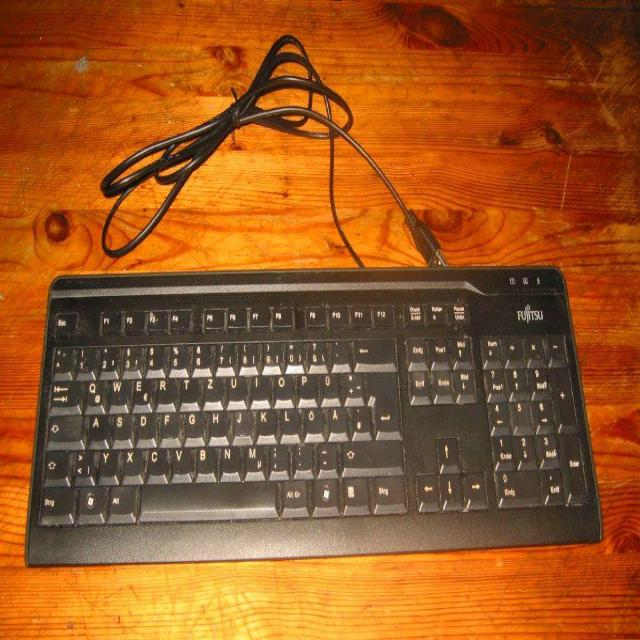0: (284, 338, 303, 369)
1: (75, 343, 96, 376)
2: (98, 343, 118, 374)
3: (121, 342, 142, 374)
4: (144, 341, 165, 371)
5: (169, 341, 190, 372)
6: (191, 340, 213, 372)
7: (215, 339, 236, 371)
8: (238, 339, 259, 370)
9: (261, 338, 281, 369)
a: (87, 413, 109, 443)
accent: (329, 337, 349, 368)
ae: (327, 404, 347, 434)
alt-left: (106, 482, 136, 519)
altgr-right: (279, 476, 306, 512)
b: (195, 445, 216, 478)
c: (146, 446, 168, 479)
caret: (50, 344, 73, 377)
comma: (268, 442, 288, 478)
d: (135, 411, 155, 442)
del: (353, 335, 395, 365)
e: (132, 375, 150, 407)
enter: (364, 366, 400, 434)
f: (159, 411, 180, 442)
g: (184, 408, 204, 440)
h: (208, 408, 228, 440)
hash: (350, 403, 370, 434)
i: (250, 372, 268, 402)
j: (232, 407, 253, 440)
k: (257, 407, 276, 438)
keyboard: (22, 259, 605, 568)
l: (279, 406, 300, 437)
less: (72, 445, 92, 481)
m: (244, 443, 263, 475)
minus: (316, 439, 336, 471)
n: (219, 444, 240, 477)
o: (272, 372, 292, 404)
oe: (303, 405, 323, 435)
p: (296, 371, 315, 402)
plus: (343, 369, 363, 400)
point: (292, 441, 311, 475)
q: (84, 377, 104, 408)
r: (155, 375, 175, 405)
s: (111, 410, 129, 440)
shift-left: (41, 446, 68, 482)
shift-lock: (44, 411, 83, 445)
shift-right: (341, 437, 402, 468)
space: (138, 478, 277, 518)
ss: (307, 337, 326, 367)
strg-left: (36, 482, 75, 521)
strg-right: (369, 472, 406, 510)
t: (179, 375, 200, 405)
tab: (48, 378, 81, 407)
u: (226, 374, 246, 403)
ue: (318, 370, 339, 401)
v: (170, 446, 191, 480)
w: (108, 376, 128, 406)
x: (121, 445, 145, 481)
y: (98, 446, 119, 482)
z: (203, 375, 223, 403)
